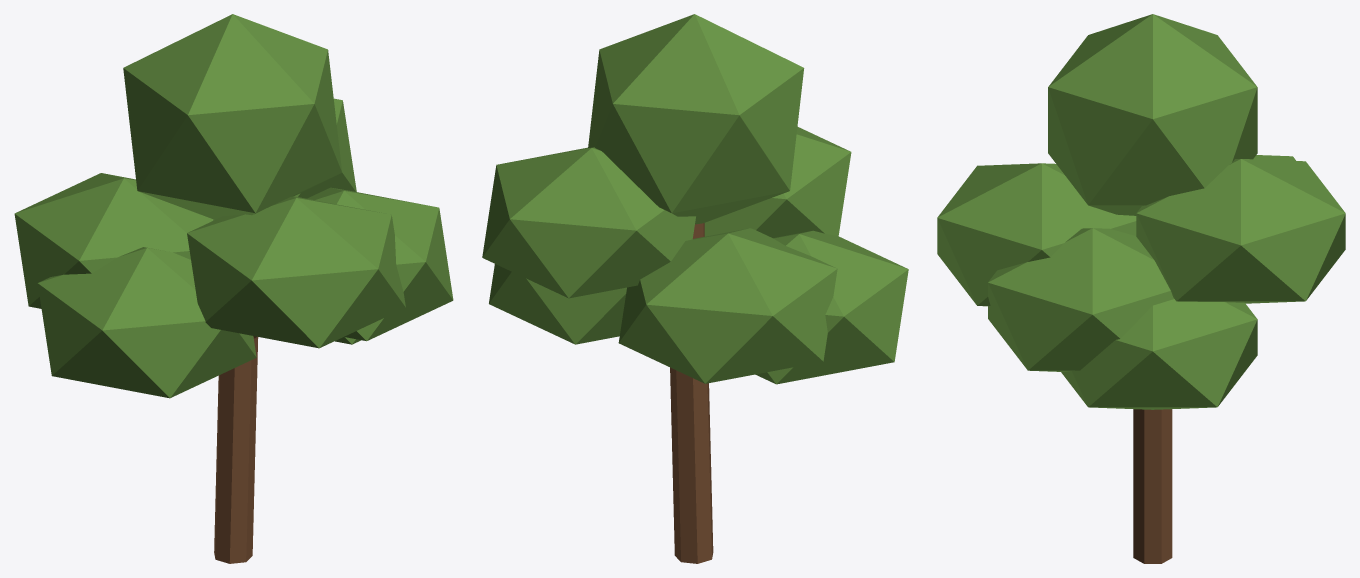
Rendered from tree_22.glb.
3 views of the same model, side by side, from view 1: azimuth 30°, elevation 25°; view 2: azimuth 150°, elevation 25°; view 3: azimuth 270°, elevation 25° (orthographic).
Parts seen in each view (by area): view 1: tree_22; view 2: tree_22; view 3: tree_22.
Part boxes in pixels (x1=…): tree_22: x1=14, y1=14, x2=453, y2=563; tree_22: x1=482, y1=14, x2=908, y2=563; tree_22: x1=937, y1=14, x2=1345, y2=563.
Size of the model in its own units: 3.31 by 4.49 by 3.07.
